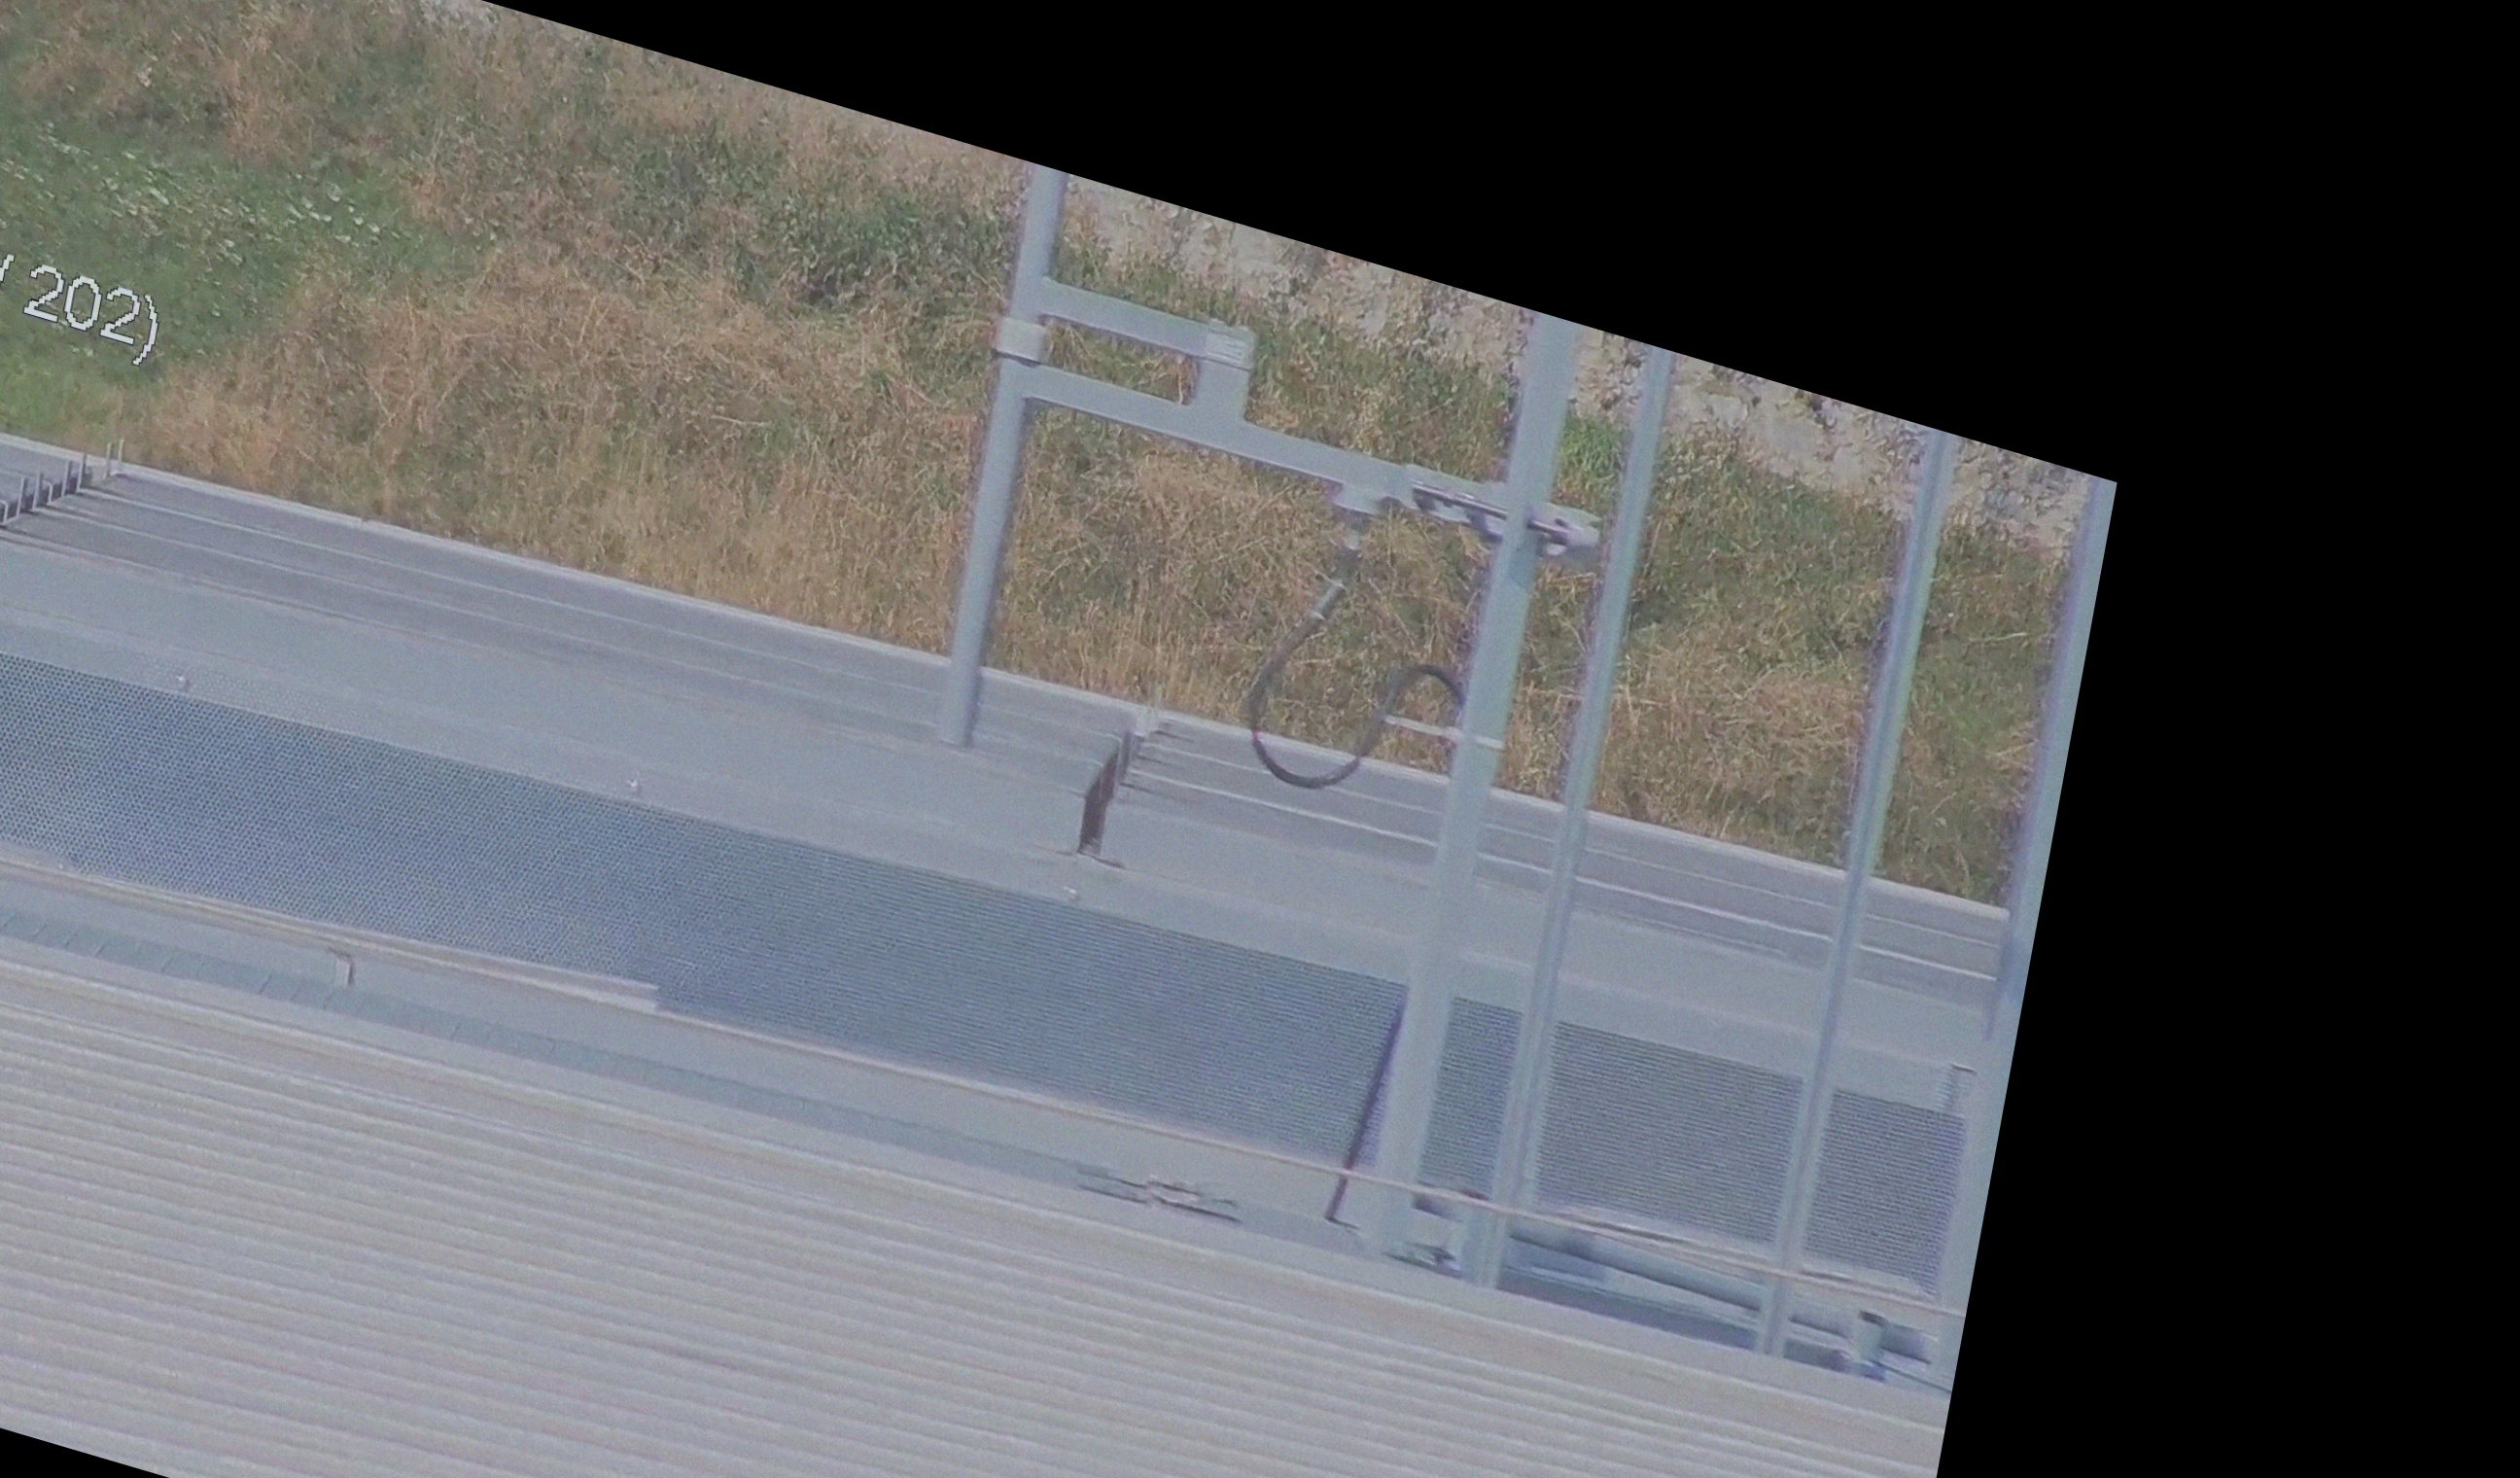Other: (1059, 688, 1175, 882)
